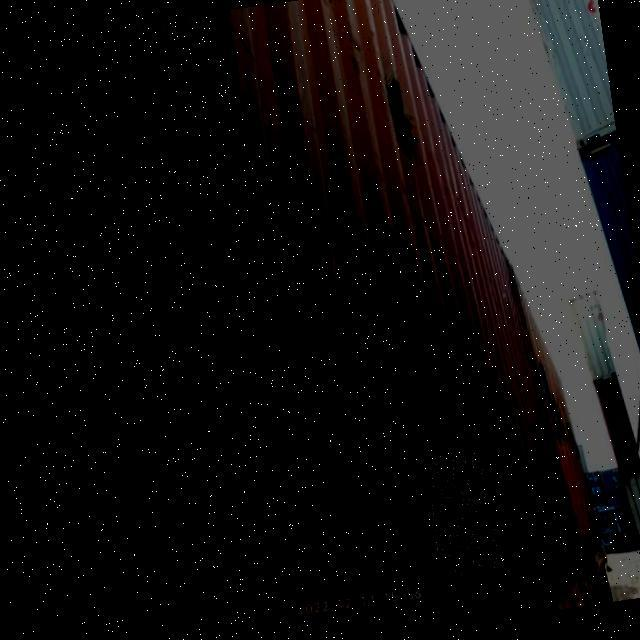Minor-Dent: (423, 449, 500, 576)
Rust: (425, 446, 500, 578)
